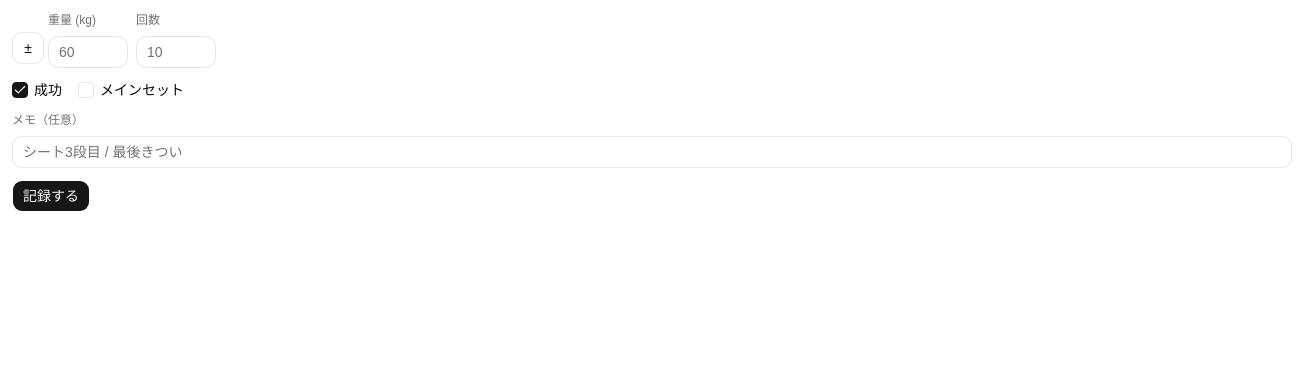
Test case: SetForm › 入力が空なら送信せずエラーを出す
Click the button "記録する" at (51, 196), box [12,180,90,212]
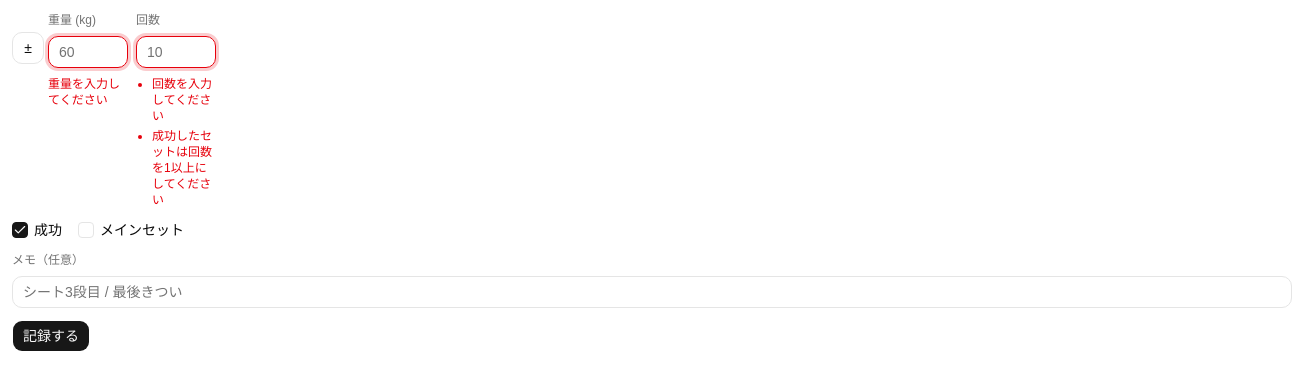
expect the text "重量を入力してください" is shown: met, box [48,76,128,108]
